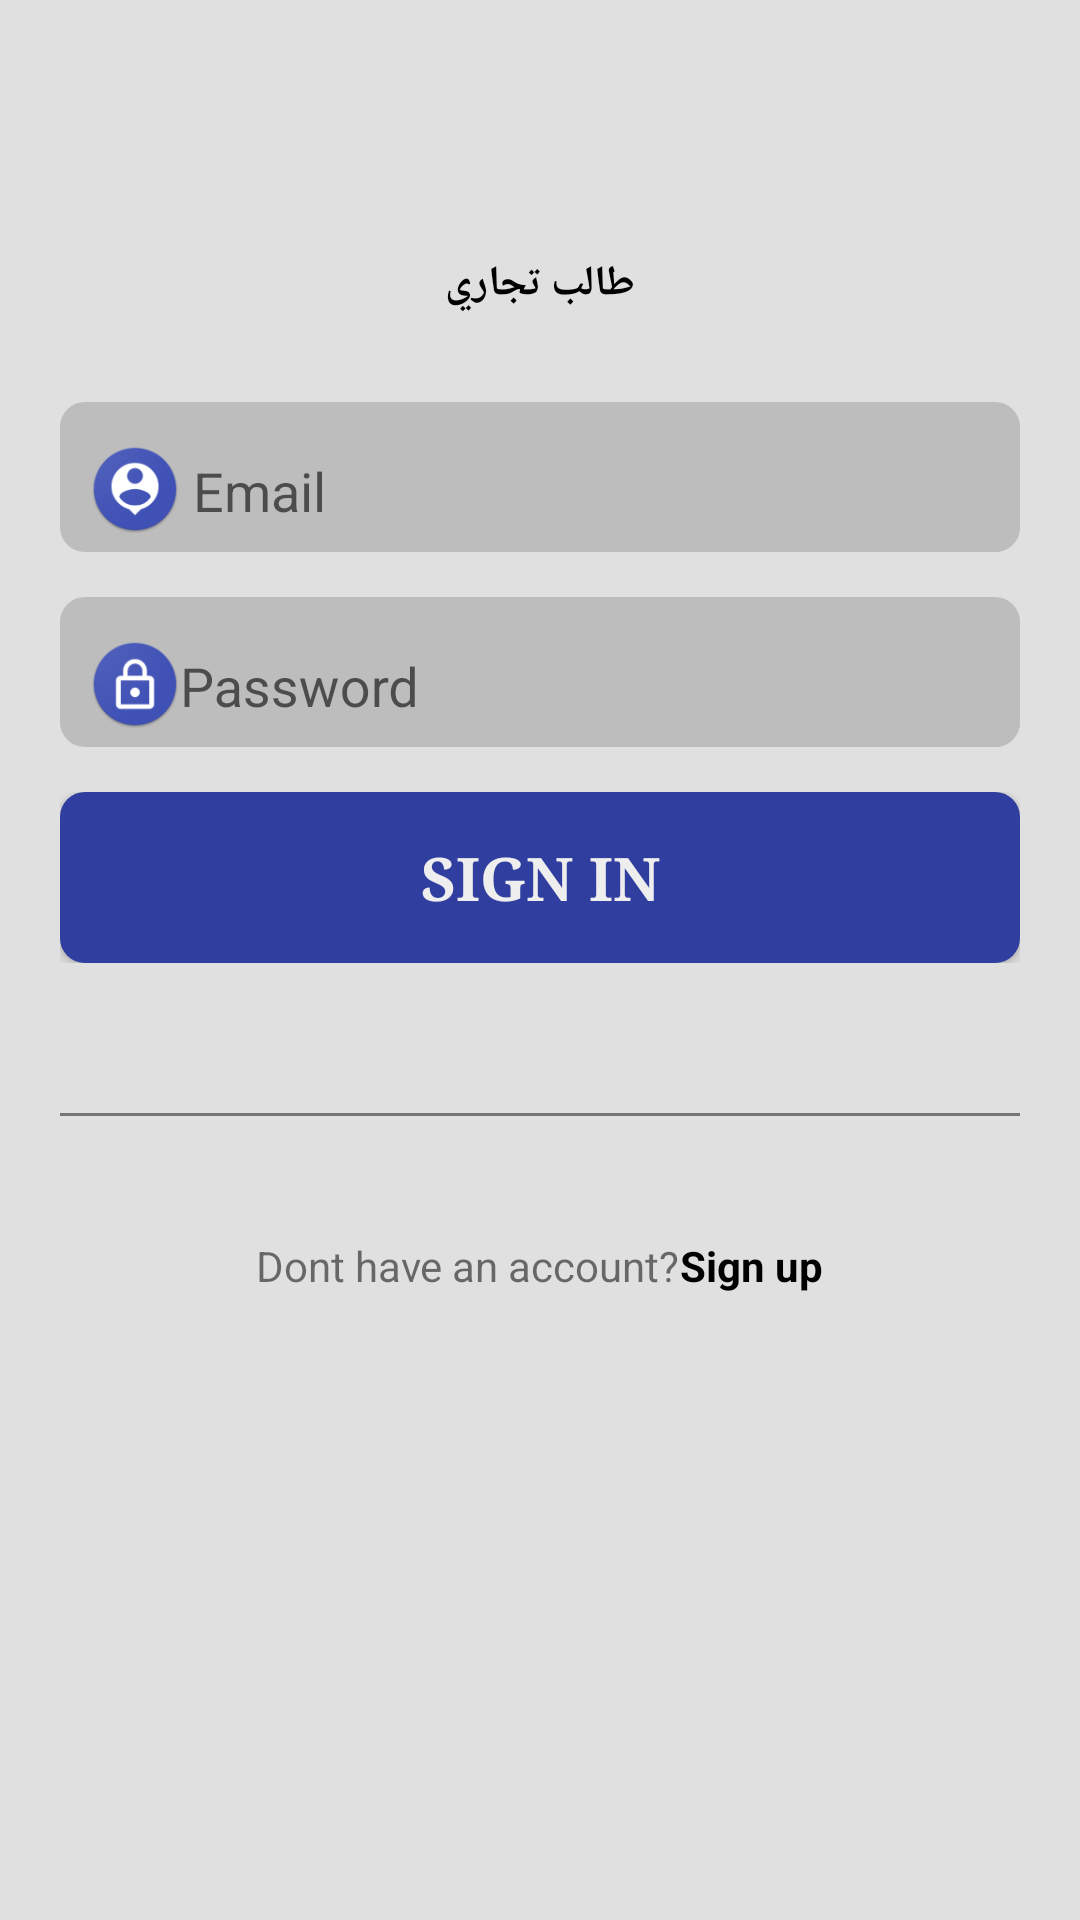

Screen size 1080x1920. Icon name, then its box in pixels as (x1, y1, x2, y2):
lock: (93, 643, 177, 727)
